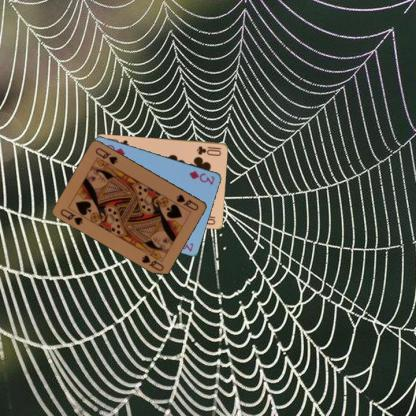10c: (194, 143, 223, 157)
3d: (187, 168, 216, 186)
Qs: (174, 192, 200, 212), (58, 206, 84, 226)
